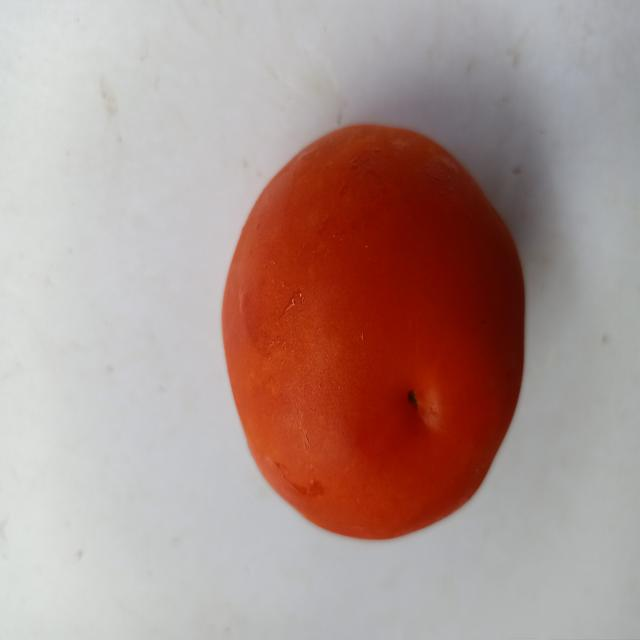Tomato: (202, 99, 559, 551)
